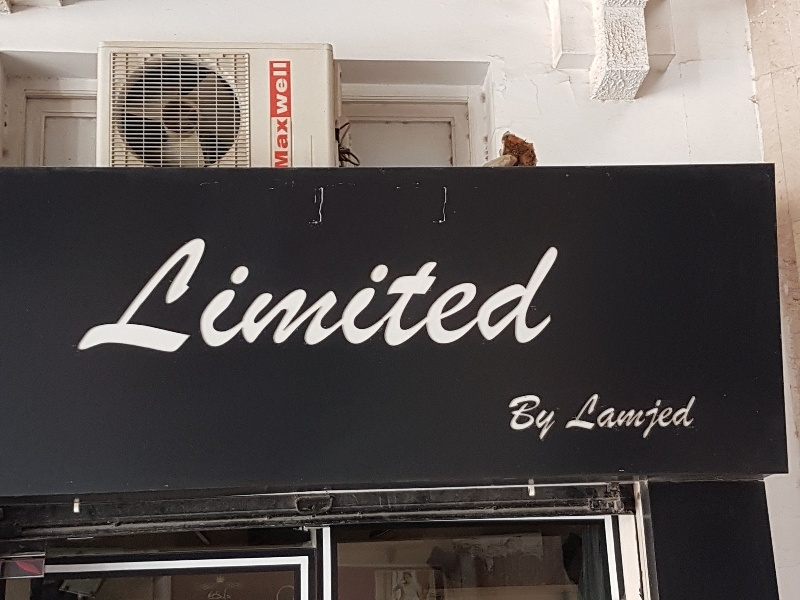text: (177, 237, 192, 354), (193, 237, 208, 354), (209, 237, 224, 354), (225, 237, 240, 354), (241, 237, 256, 354), (257, 237, 272, 354), (273, 237, 288, 354), (289, 237, 304, 354), (305, 237, 320, 354), (321, 237, 336, 354), (337, 237, 352, 354), (353, 237, 368, 354), (369, 237, 384, 354), (385, 237, 400, 354), (401, 237, 416, 354), (417, 237, 432, 354), (433, 237, 448, 354), (449, 237, 464, 354), (465, 237, 480, 354), (481, 237, 496, 354), (497, 237, 512, 354), (513, 237, 528, 354), (529, 237, 544, 354), (545, 237, 560, 354), (273, 62, 288, 168), (167, 237, 176, 354), (513, 394, 528, 442), (529, 394, 544, 442), (545, 394, 560, 442), (593, 394, 608, 439), (609, 394, 624, 439), (625, 394, 640, 439), (641, 394, 656, 439), (657, 394, 672, 439), (673, 394, 688, 439), (561, 237, 566, 354), (689, 394, 698, 439), (585, 394, 592, 439), (509, 394, 512, 442)
